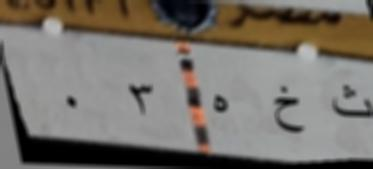0: (64, 88, 81, 114)
3: (126, 77, 156, 124)
haa: (206, 84, 235, 125)
khaa: (268, 82, 310, 140)
thaa: (330, 81, 373, 125)
